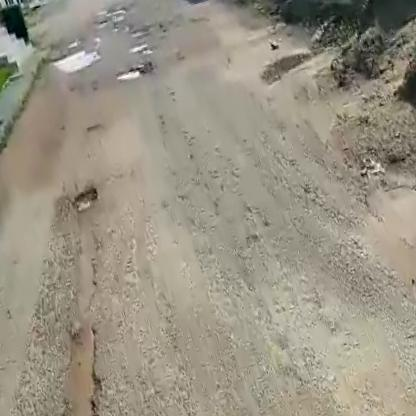pothole: (45, 42, 104, 79), (112, 60, 150, 85), (71, 186, 101, 212)
